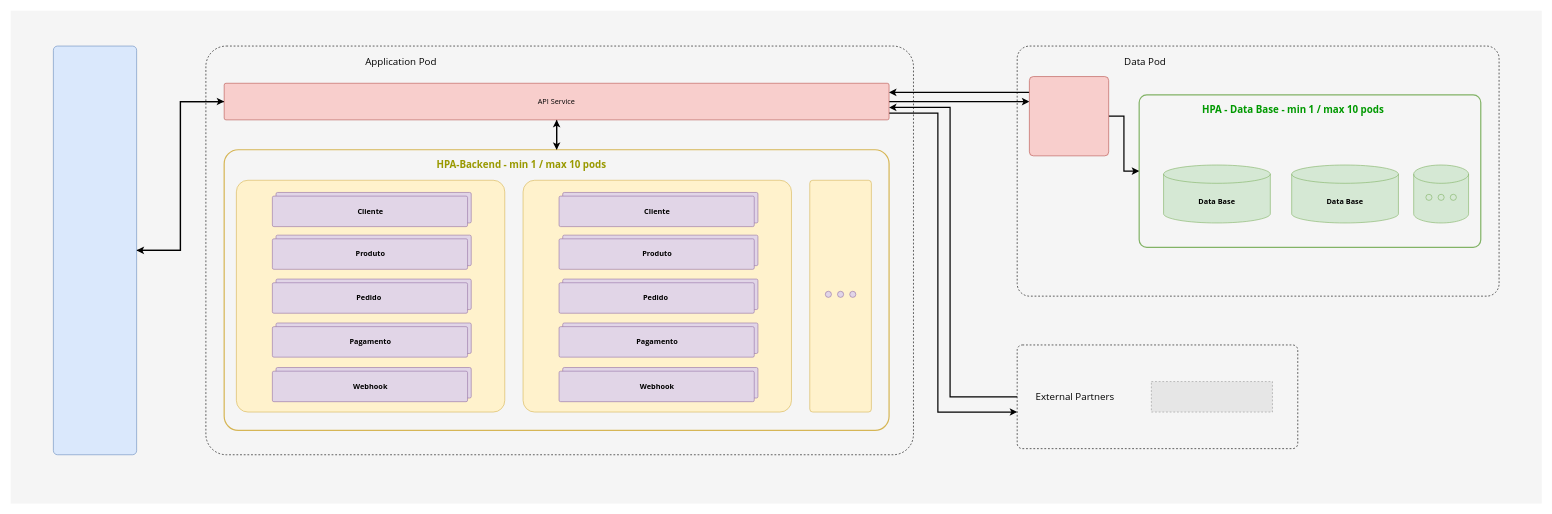
This 1552x514 diagram has some shape labels left out. Grey dashed boxes stand in for pictures. Here are the shapes that lost their labels. From the top down, the box of each, then its label:
(1029, 76, 1109, 156): Data Base Service
(53, 45, 137, 455): User Interface
